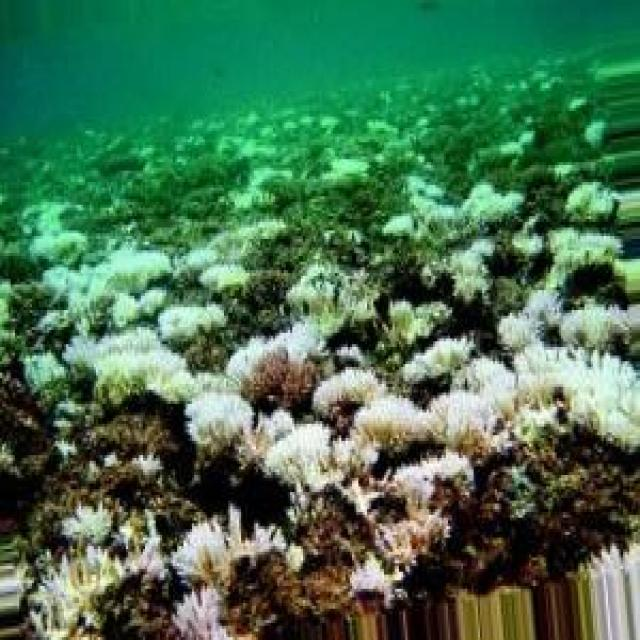bleached coral: (62, 512, 149, 617), (514, 344, 640, 415), (41, 250, 171, 313), (250, 412, 354, 489), (64, 330, 190, 393), (286, 259, 380, 338), (350, 390, 446, 461), (186, 393, 256, 472), (427, 239, 495, 302)
